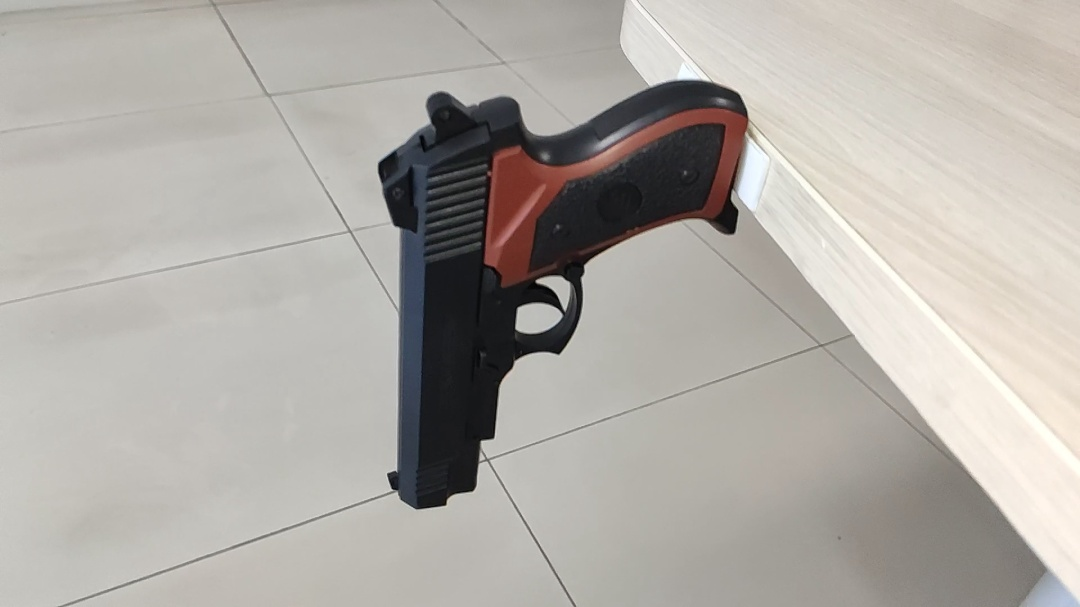gun: (373, 75, 754, 513)
